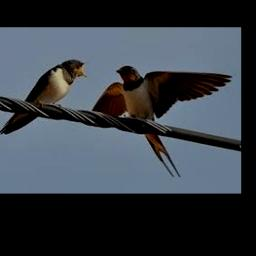Swallow: (91, 66, 232, 177), (0, 60, 87, 134)
